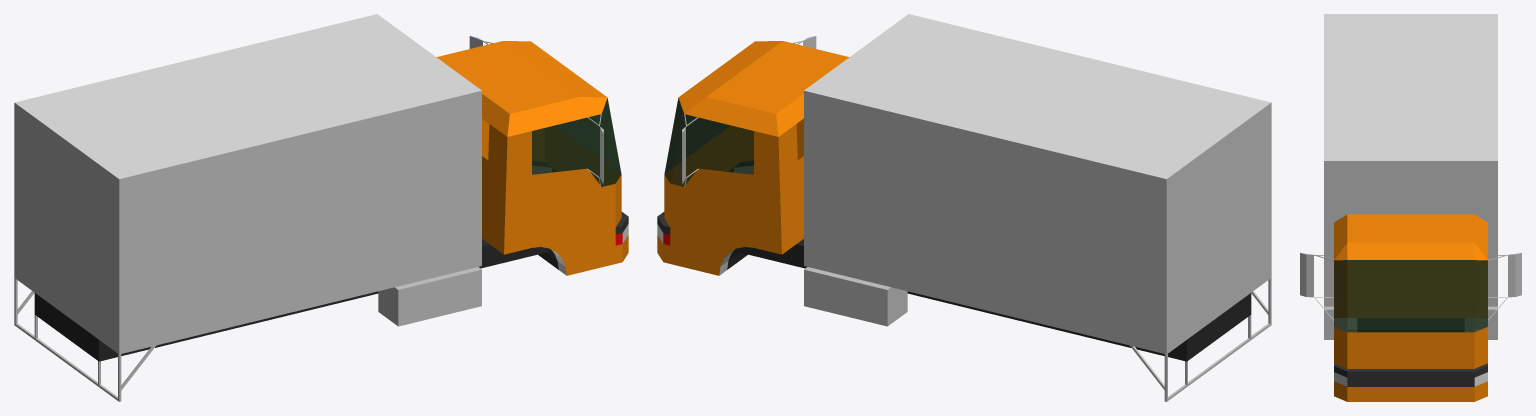
File: truck.obj
3 renders of one model, left to right at view 1: azimuth 30°, elevation 25°; view 2: azimuth 150°, elevation 25°; view 3: azimuth 270°, elevation 25°, orthographic. The views are drawn at different scales.
Size of the model in its own units: 7.5 by 3.05 by 3.32.
